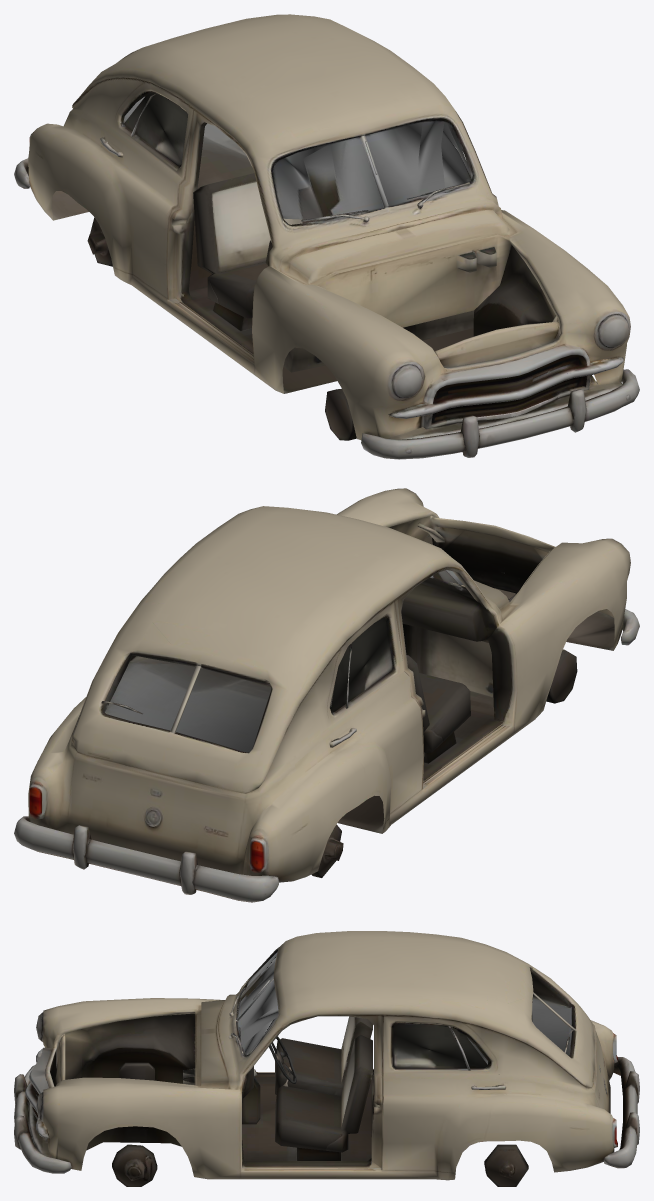
File: original_glb.glb
3 renders of one model, top to bottom at view 1: azimuth 30°, elevation 25°; view 2: azimuth 150°, elevation 25°; view 3: azimuth 270°, elevation 25°, orthographic. The views are drawn at different scales.
Parts seen in each view (by area): view 1: body shell; view 2: body shell; view 3: body shell.
Boxes of the visible parts, x1,y1,x2,y2 form: body shell: (14, 14, 639, 459); body shell: (14, 488, 639, 902); body shell: (14, 931, 639, 1186).
Bounding box in the file's own units: 0.4082 × 0.3262 × 0.998.
1 material, 1 textured.
